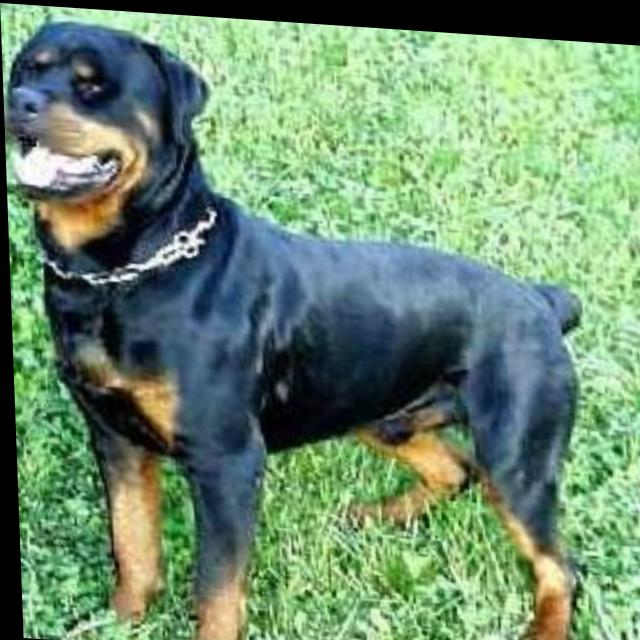rottweiler: (2, 13, 595, 640)
